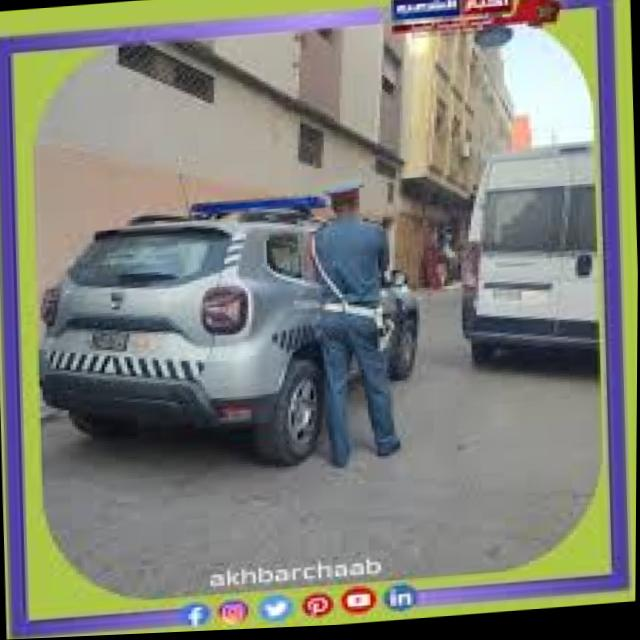gendarme car: (26, 175, 431, 490)
